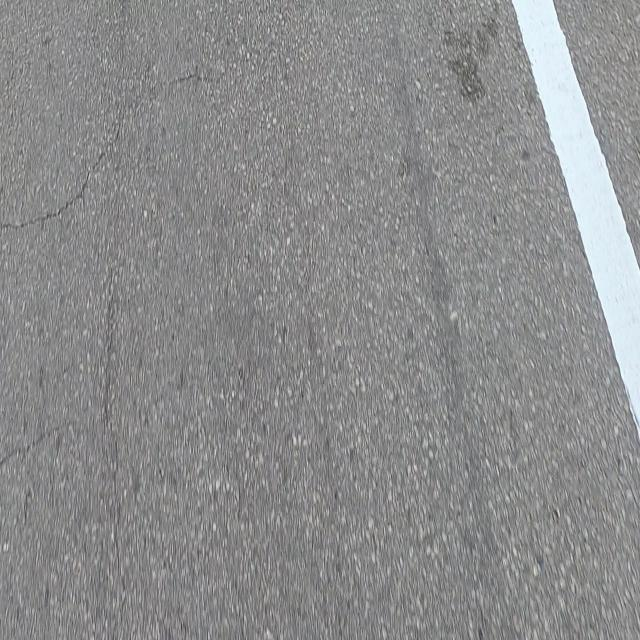Retak-Melintang: (0, 109, 122, 234), (1, 419, 73, 459)
Retak-Memanjang: (101, 267, 128, 624)
